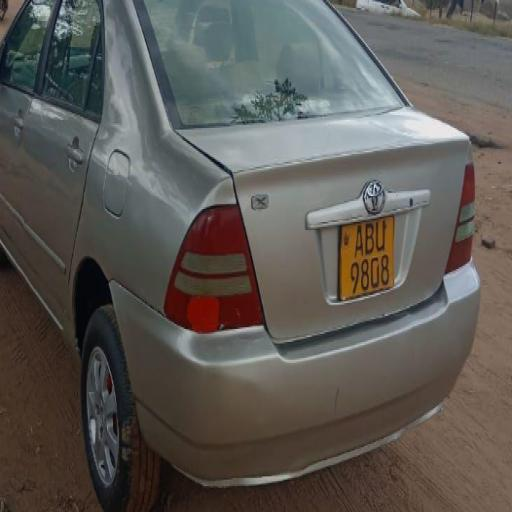number-plates: (344, 218, 394, 293)
